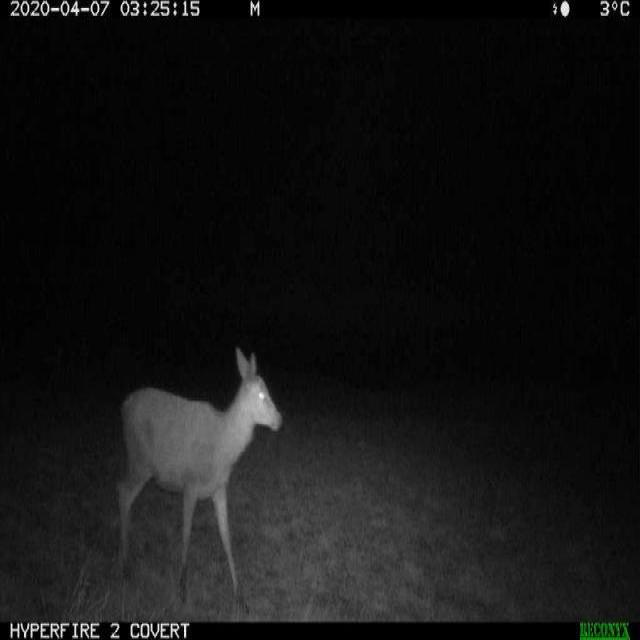deer: (84, 316, 306, 604)
